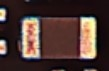COMP: (13, 12, 104, 66)
GAP: (1, 18, 36, 55)
